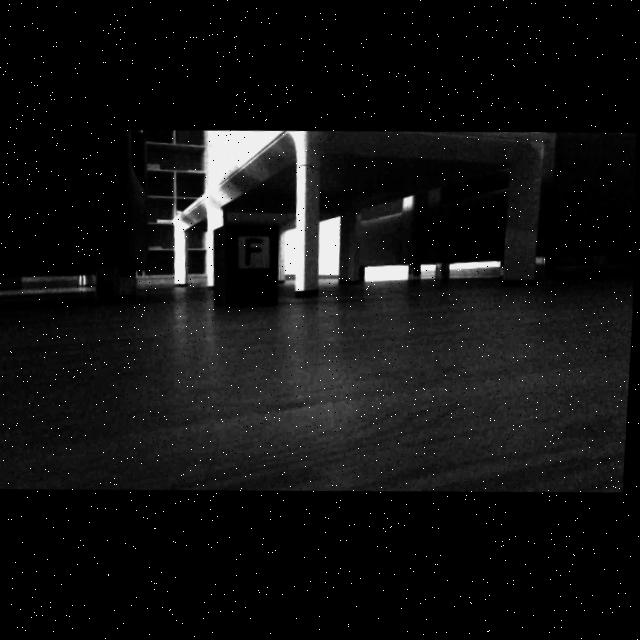F: (246, 240, 263, 267)
